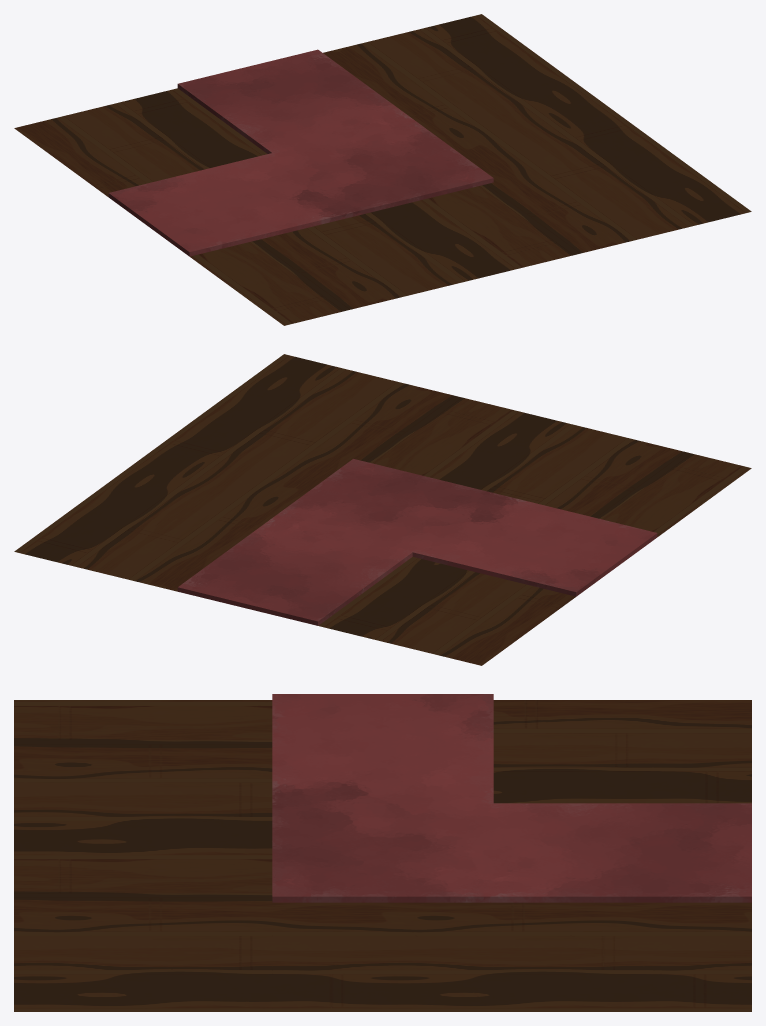
Rendered from Floor_L.fbx.
3 renders of one model, top to bottom at view 1: azimuth 30°, elevation 25°; view 2: azimuth 150°, elevation 25°; view 3: azimuth 270°, elevation 25°, orthographic. The views are drawn at different scales.
Parts seen in each view (by area): view 1: floor_L; view 2: floor_L; view 3: floor_L.
Boxes of the visible parts, bbox=[...] form: floor_L: bbox=[14, 14, 751, 325]; floor_L: bbox=[14, 354, 751, 665]; floor_L: bbox=[14, 694, 751, 1011].
Size of the model in its own units: 1650 by 15 by 1650.
1 material, 1 textured.
